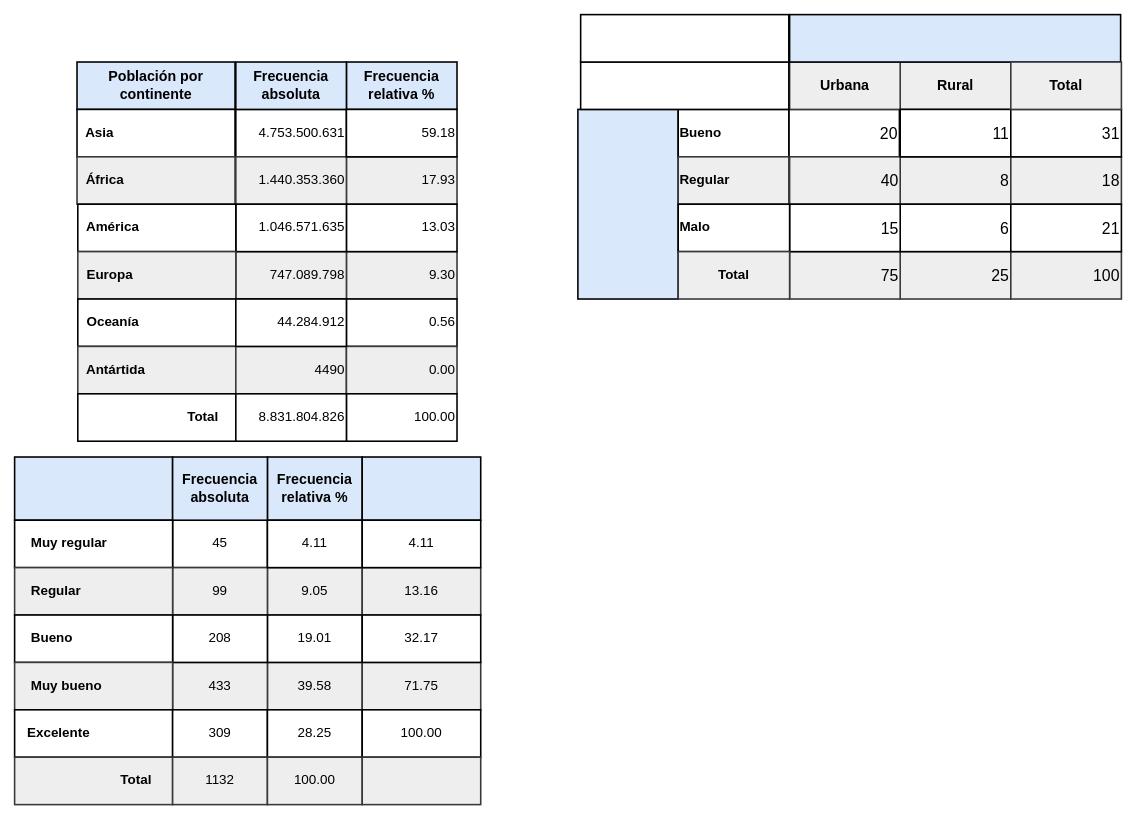
This 1135x818 diagram has some shape labels left out. The box of each missing label's shape, as (x1, y1, x2, y2) in pixels:
Calificación: (577, 108, 679, 299)
Evaluación: (13, 456, 173, 521)
Frecuencia acumulada relativa %: (361, 456, 481, 521)
Residencia: (788, 13, 1121, 62)
